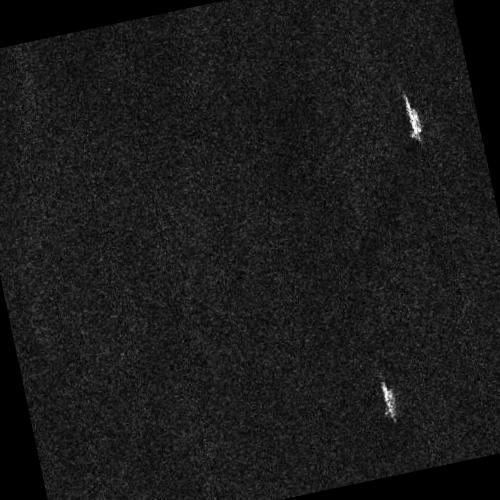ship: (405, 96, 422, 139), (381, 381, 395, 419)
